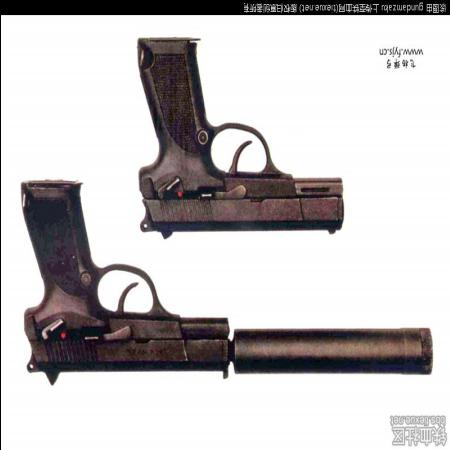Pistol: (15, 180, 230, 380), (130, 38, 345, 237)
